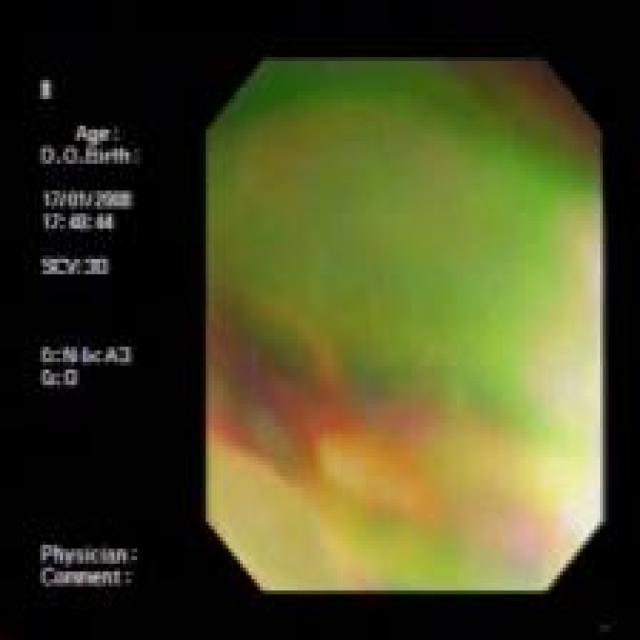color misalignment: (208, 59, 601, 589), (32, 76, 148, 596)
